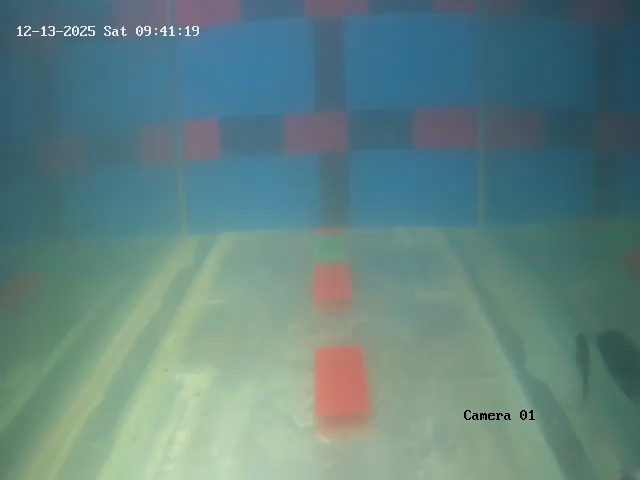fish: (567, 326, 603, 406)
